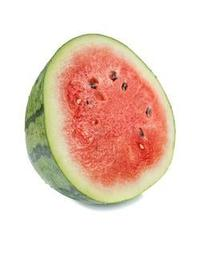watermelon: (25, 33, 177, 206)
